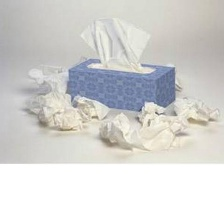book: (63, 52, 180, 116)
tissue: (74, 11, 157, 75), (95, 108, 196, 155), (17, 86, 115, 134), (23, 51, 93, 99), (169, 91, 223, 129), (132, 98, 170, 129), (162, 59, 186, 94)
